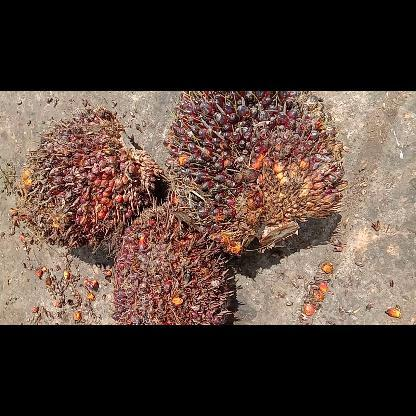Kurang masak: (19, 108, 162, 250)
TBS masak: (164, 92, 348, 258), (112, 205, 238, 323)
